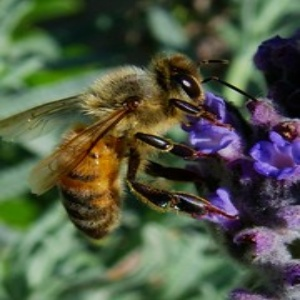bee: (3, 51, 258, 241)
